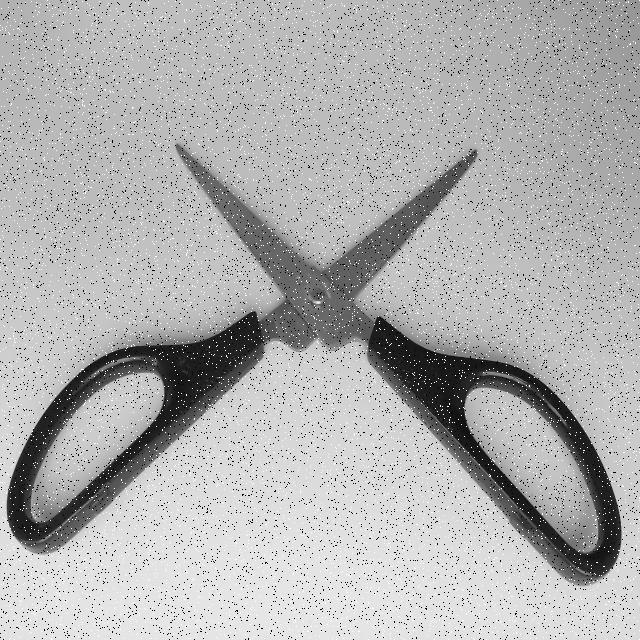scissors: (4, 133, 626, 594)
